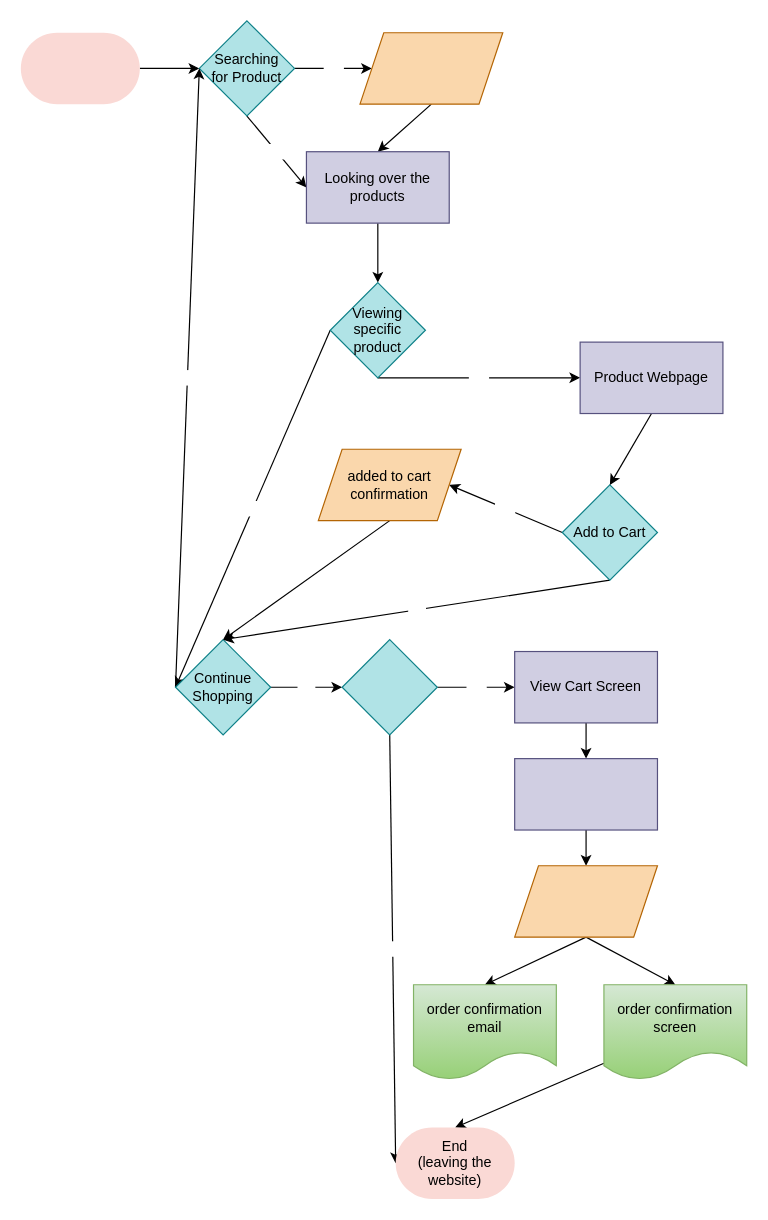
The diagram is 768 pixels wide and 1220 high, and some of its shapes have lost their labels. Here are the shapes that lost their labels. From the top down, the centre of each, then its label:
the point at 79,68: Start (entering the website)
the point at 431,68: User's Input for searching product
the point at 389,686: checkout
the point at 585,793: View Payment Screen
the point at 585,901: payment info
